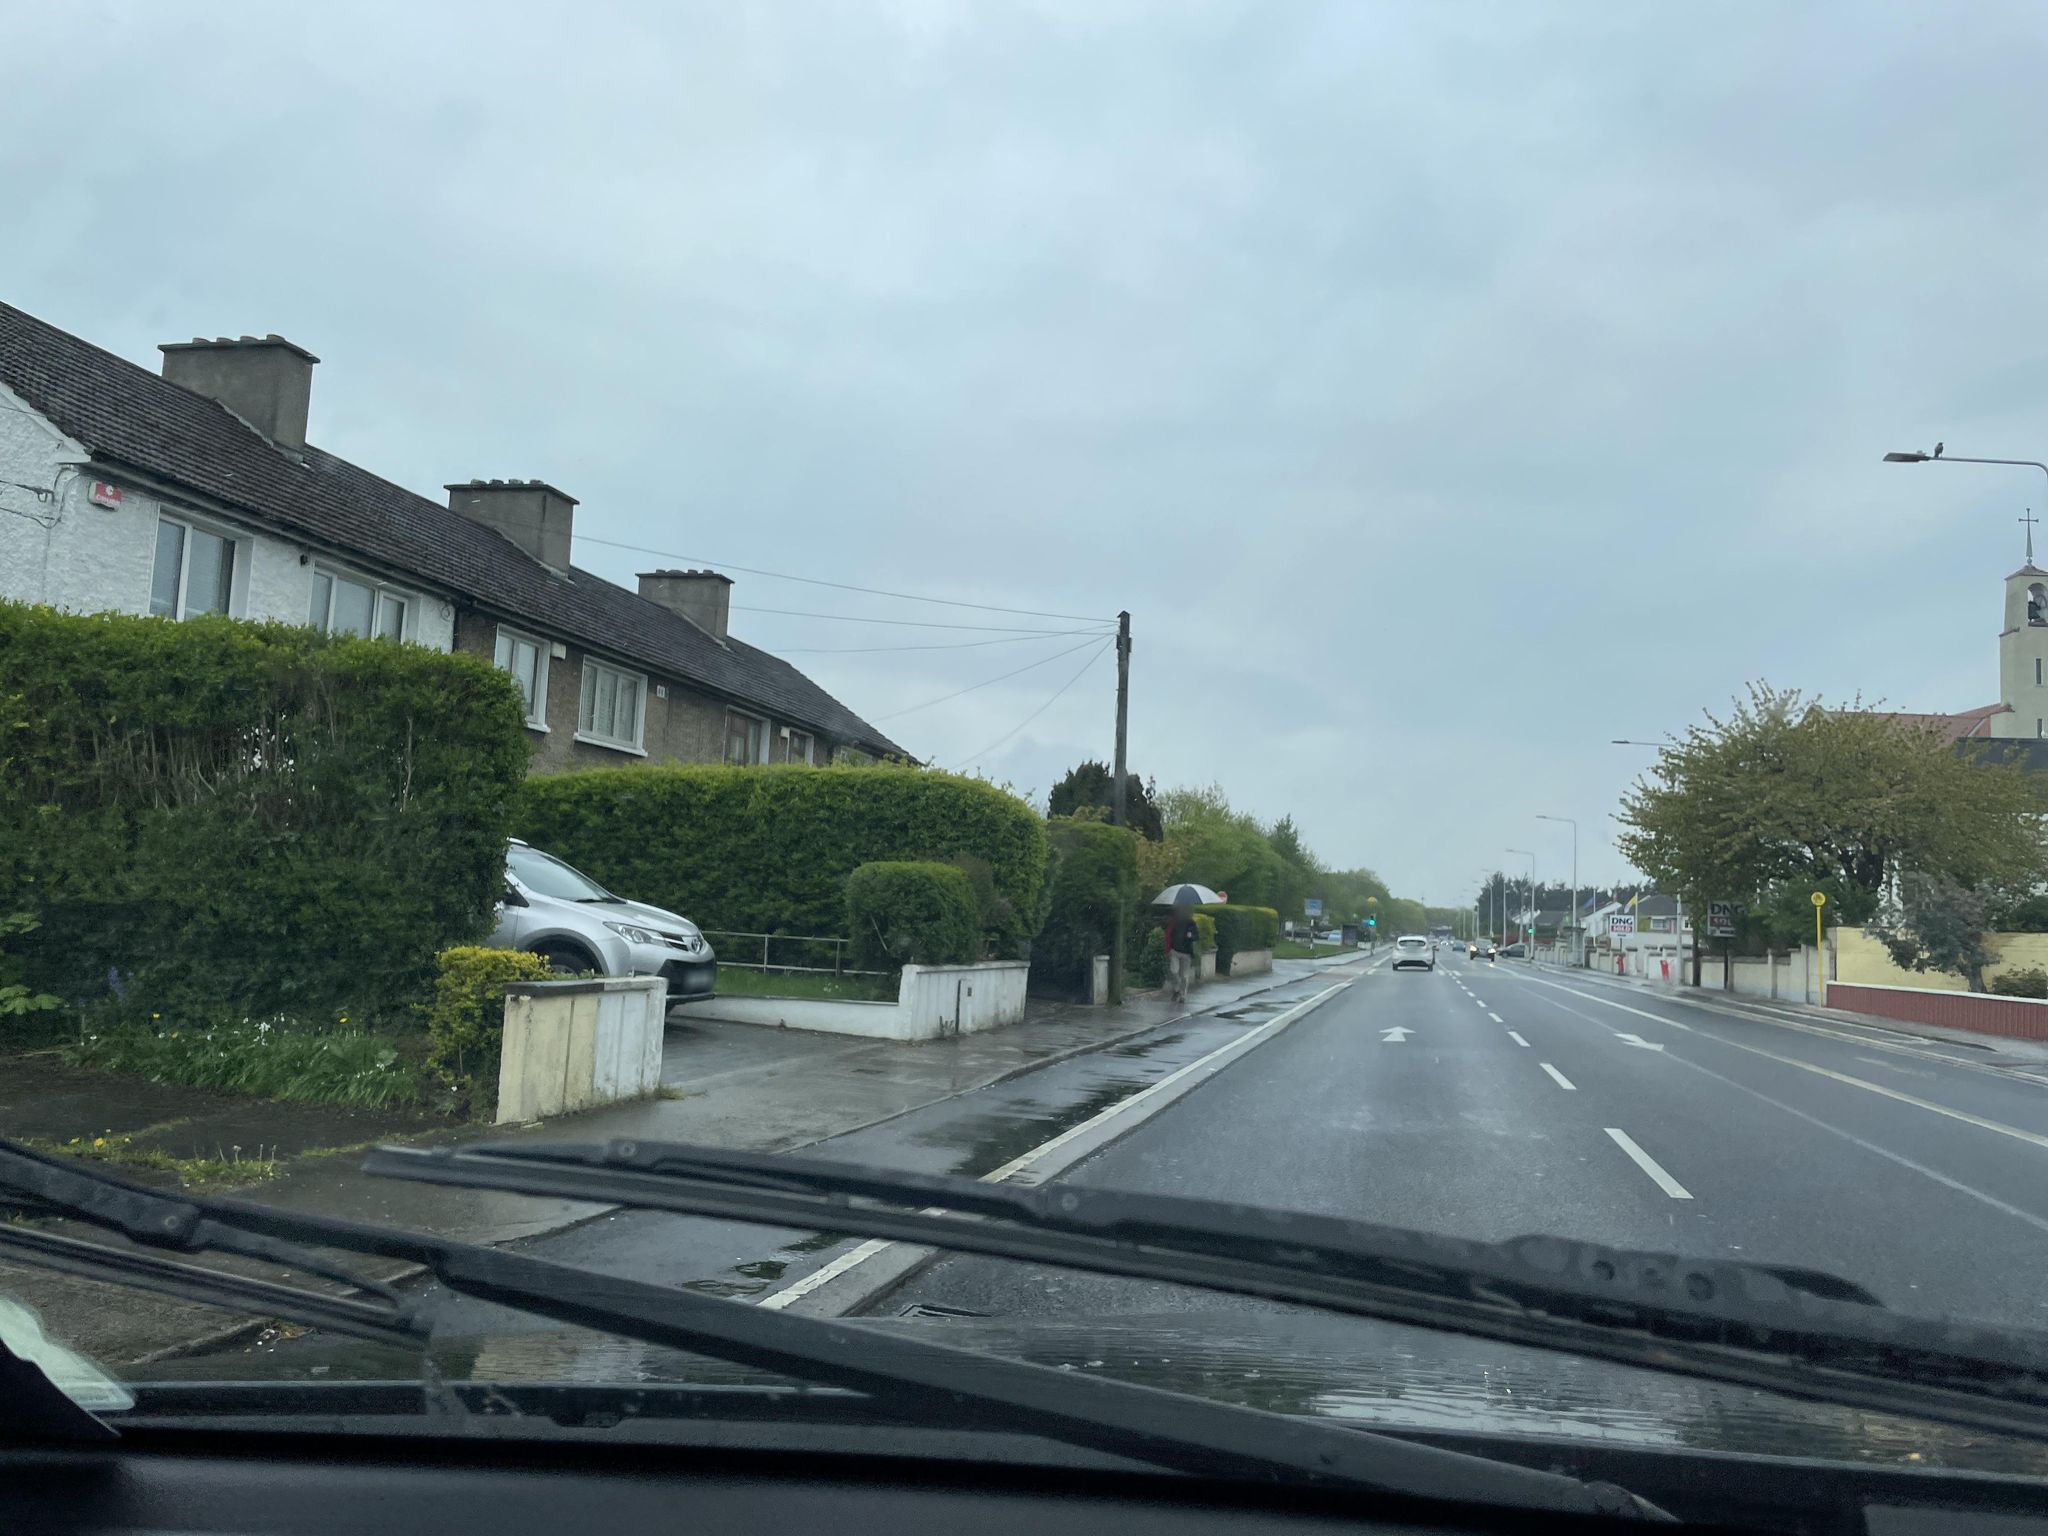property sign: (1692, 883, 1755, 963), (1603, 895, 1643, 949)
